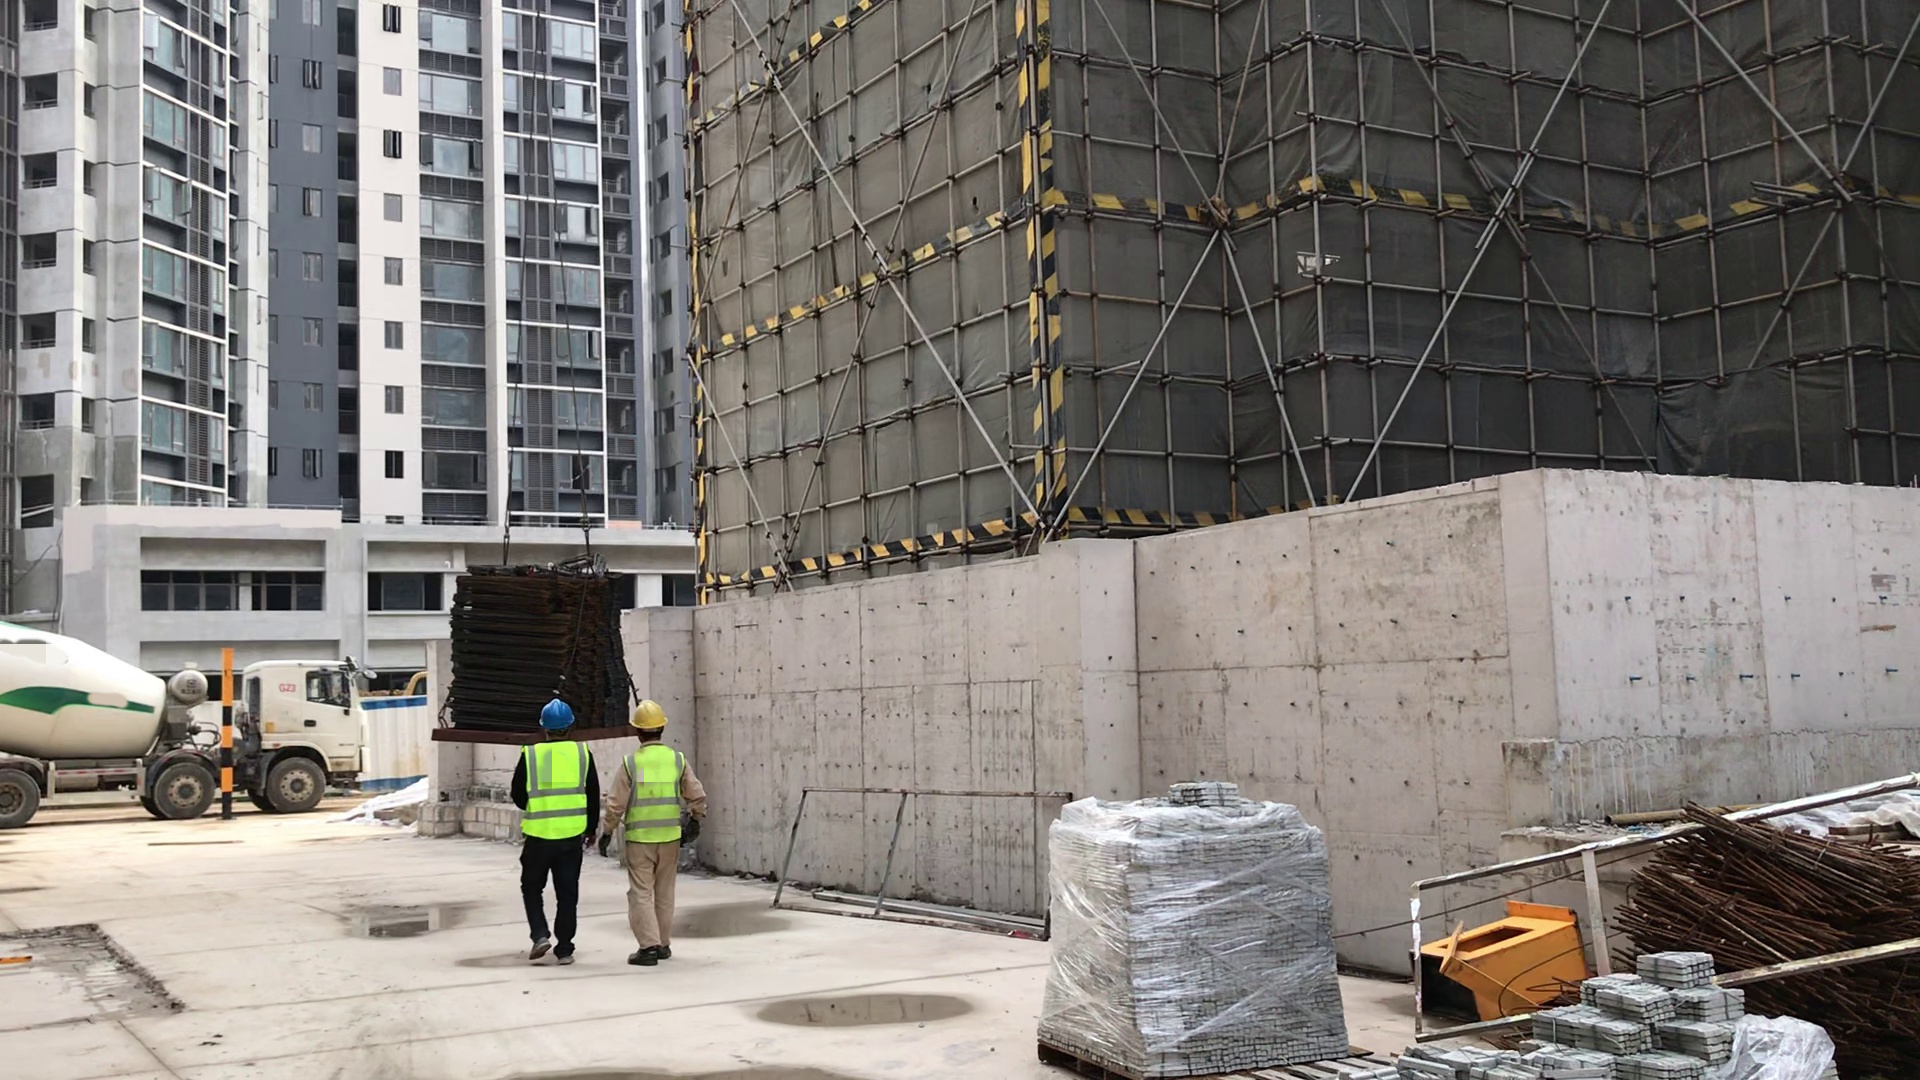helmet: (529, 697, 586, 736), (629, 694, 672, 741)
person: (615, 692, 716, 971), (505, 689, 596, 965)
vest: (619, 747, 696, 852), (517, 742, 592, 829)
